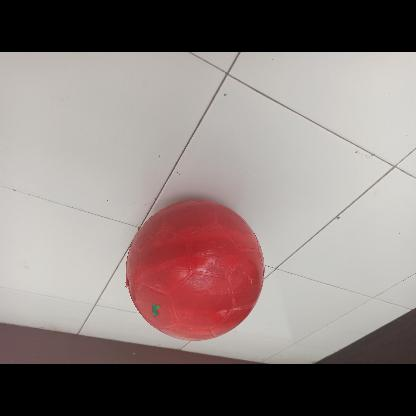red_ball: (124, 200, 264, 340)
